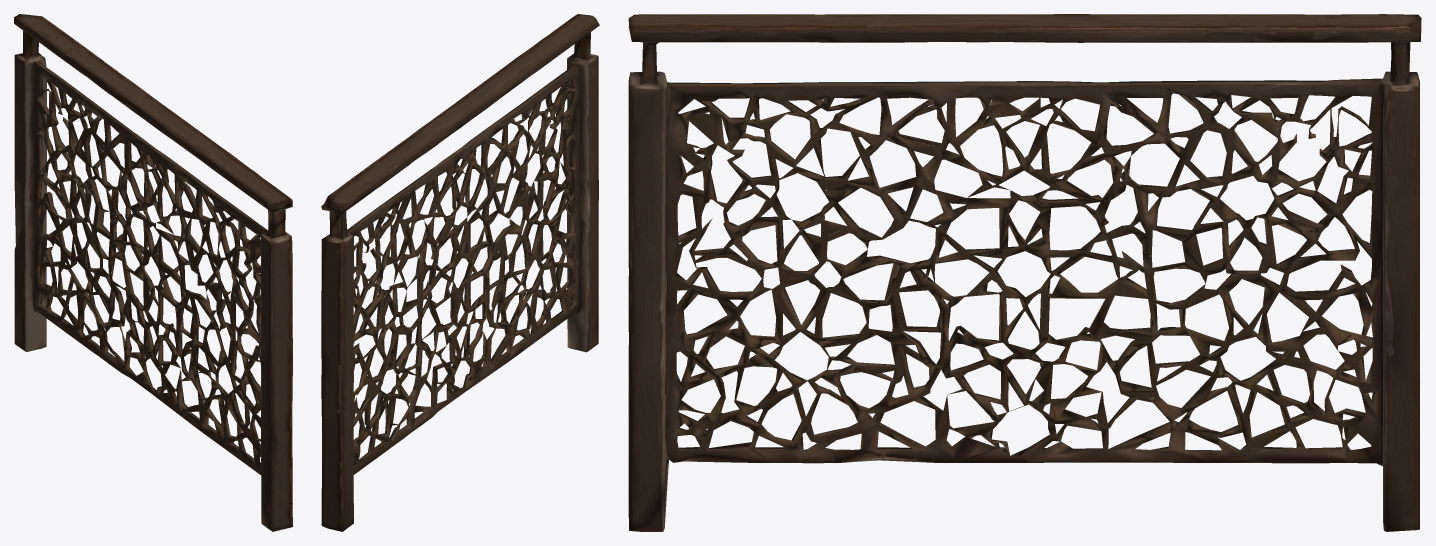
File: balcrail.glb
3 renders of one model, left to right at view 1: azimuth 30°, elevation 25°; view 2: azimuth 150°, elevation 25°; view 3: azimuth 270°, elevation 25°, orthographic. The views are drawn at different scales.
Parts seen in each view (by area): view 1: tripo_node_59b3634f-7aed-4abb-b65b-6a26f1630ae5; view 2: tripo_node_59b3634f-7aed-4abb-b65b-6a26f1630ae5; view 3: tripo_node_59b3634f-7aed-4abb-b65b-6a26f1630ae5.
Boxes of the visible parts, x1=… form: tripo_node_59b3634f-7aed-4abb-b65b-6a26f1630ae5: x1=14, y1=14, x2=292, y2=531; tripo_node_59b3634f-7aed-4abb-b65b-6a26f1630ae5: x1=321, y1=14, x2=599, y2=531; tripo_node_59b3634f-7aed-4abb-b65b-6a26f1630ae5: x1=628, y1=14, x2=1421, y2=531.
Size of the model in its own units: 0.0721 by 0.9997 by 1.43.
1 material, 1 textured.
